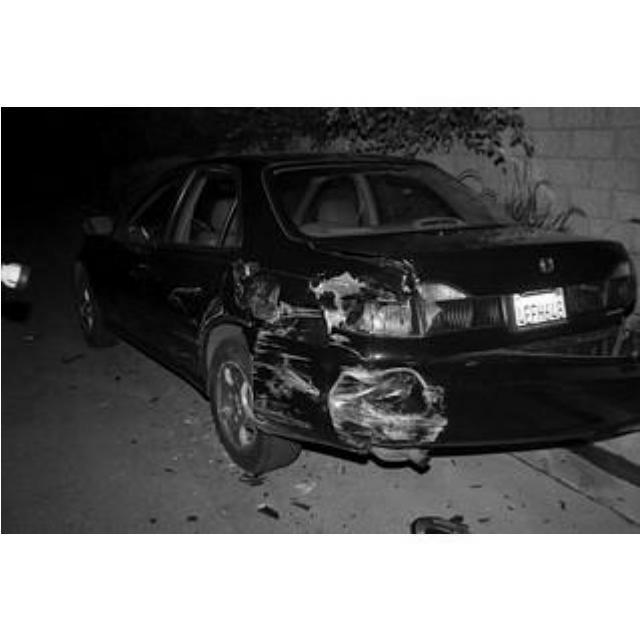quaterpanel-dent: (221, 243, 381, 329)
rear-bumper-dent: (261, 355, 541, 457)
